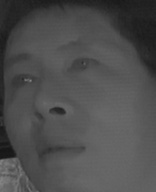eye: (65, 54, 104, 75), (9, 68, 38, 88)
mouth: (36, 134, 86, 166)
